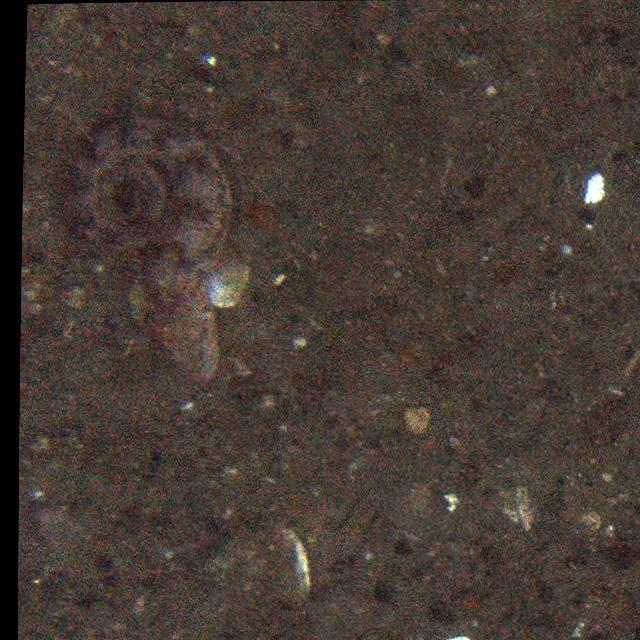roundfish: (63, 112, 243, 387)
